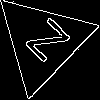Z: (17, 17, 71, 71)
